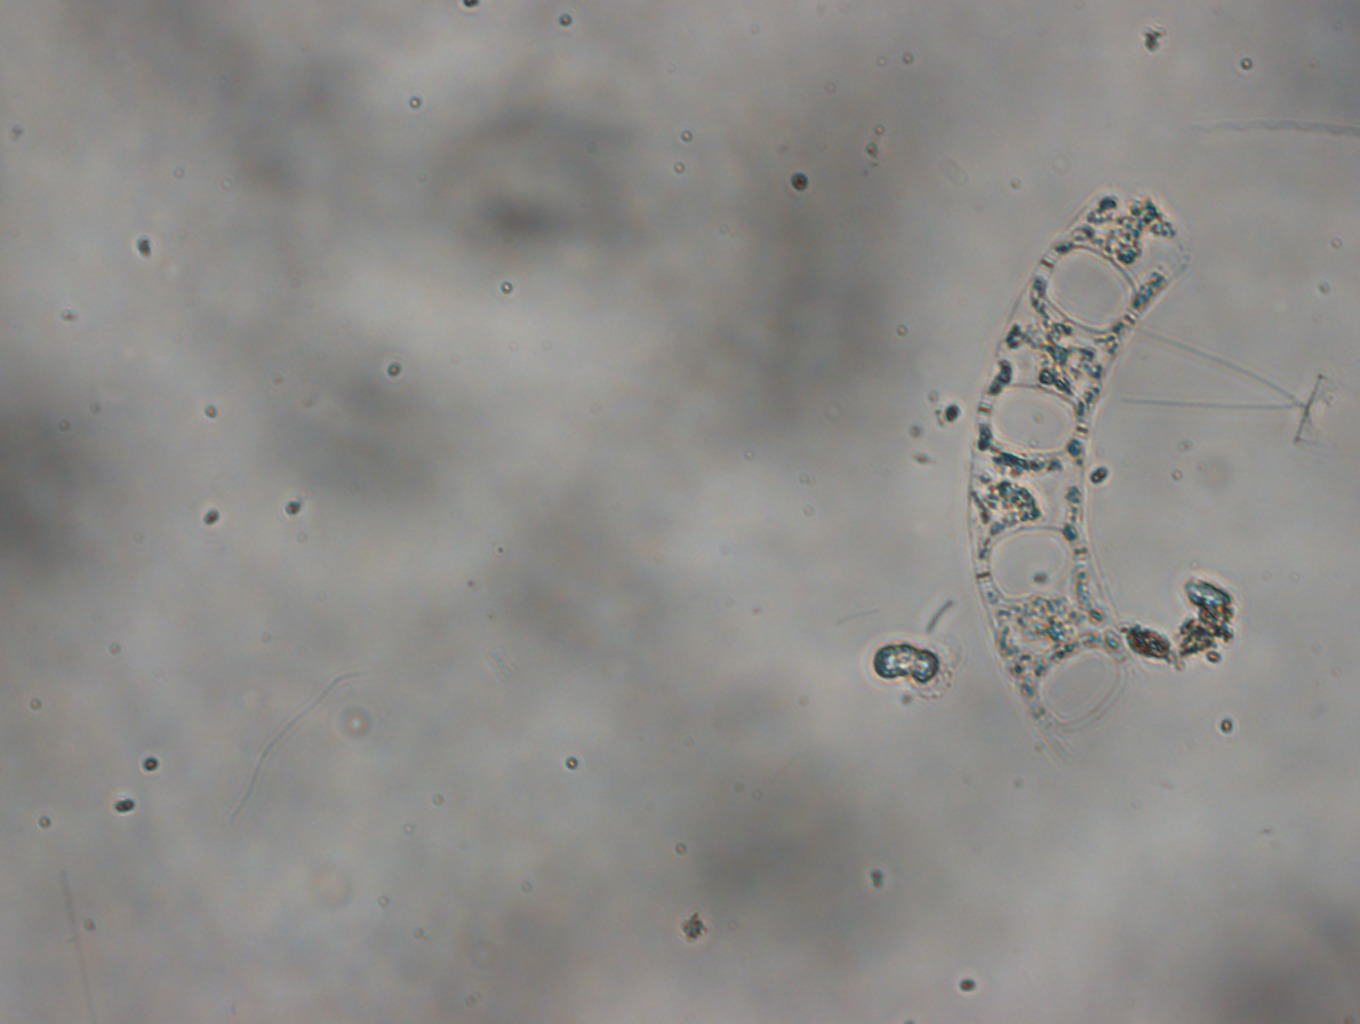eucampia: (960, 169, 1207, 762)
